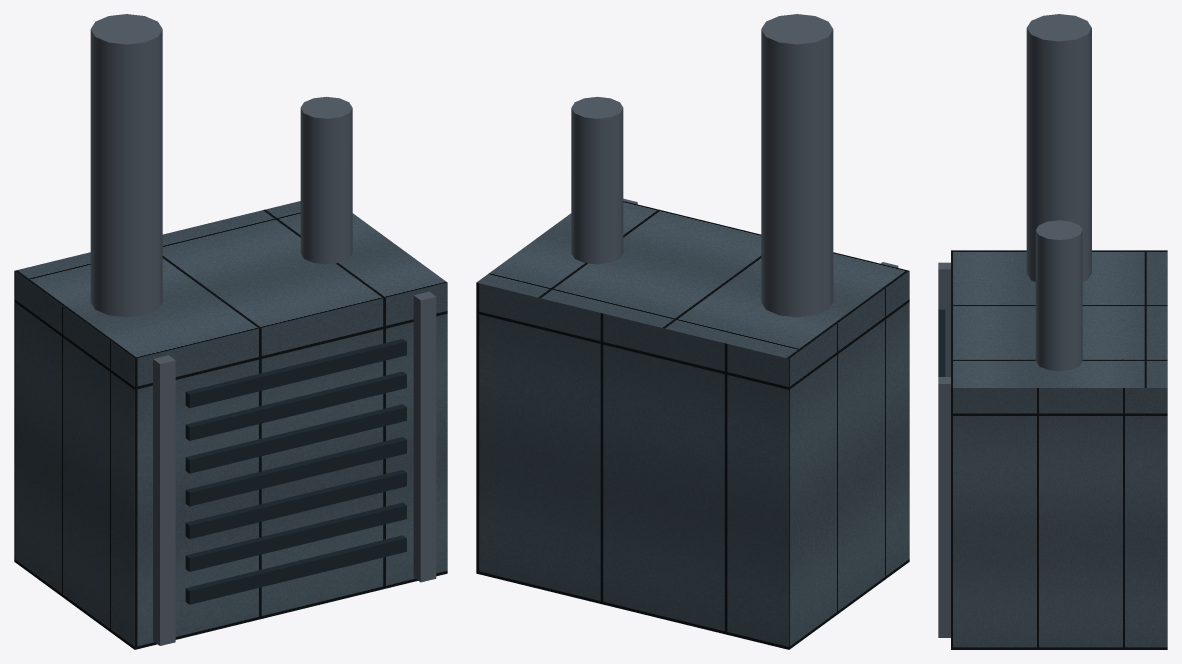
The model's file is utility-vent.glb.
3 views of the same model, side by side, from view 1: azimuth 30°, elevation 25°; view 2: azimuth 150°, elevation 25°; view 3: azimuth 270°, elevation 25° (orthographic). The views are drawn at different scales.
Parts seen in each view (by area): view 1: utility-vent; view 2: utility-vent; view 3: utility-vent.
Part boxes in pixels (box(x1,y1,x2,y2)): utility-vent: box(14, 14, 447, 649); utility-vent: box(476, 14, 909, 649); utility-vent: box(938, 14, 1167, 649).
Size of the model in its own units: 1.8 by 3.1 by 1.27.
3 materials, 1 textured.
